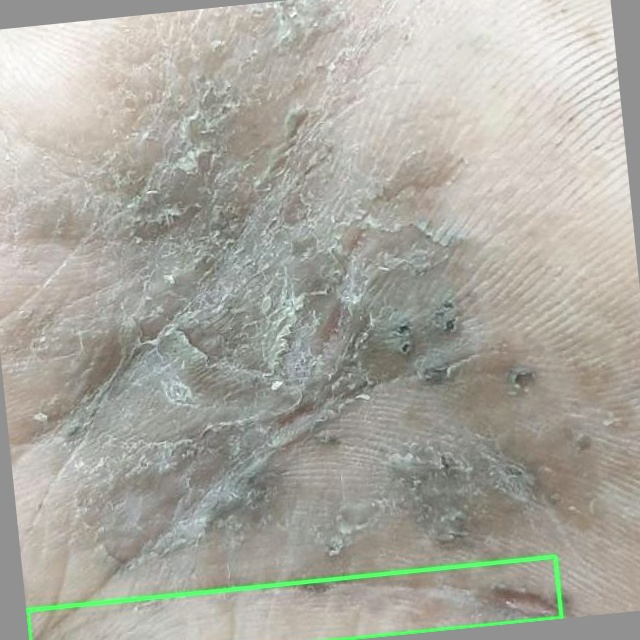Eczema: (26, 556, 561, 639)
